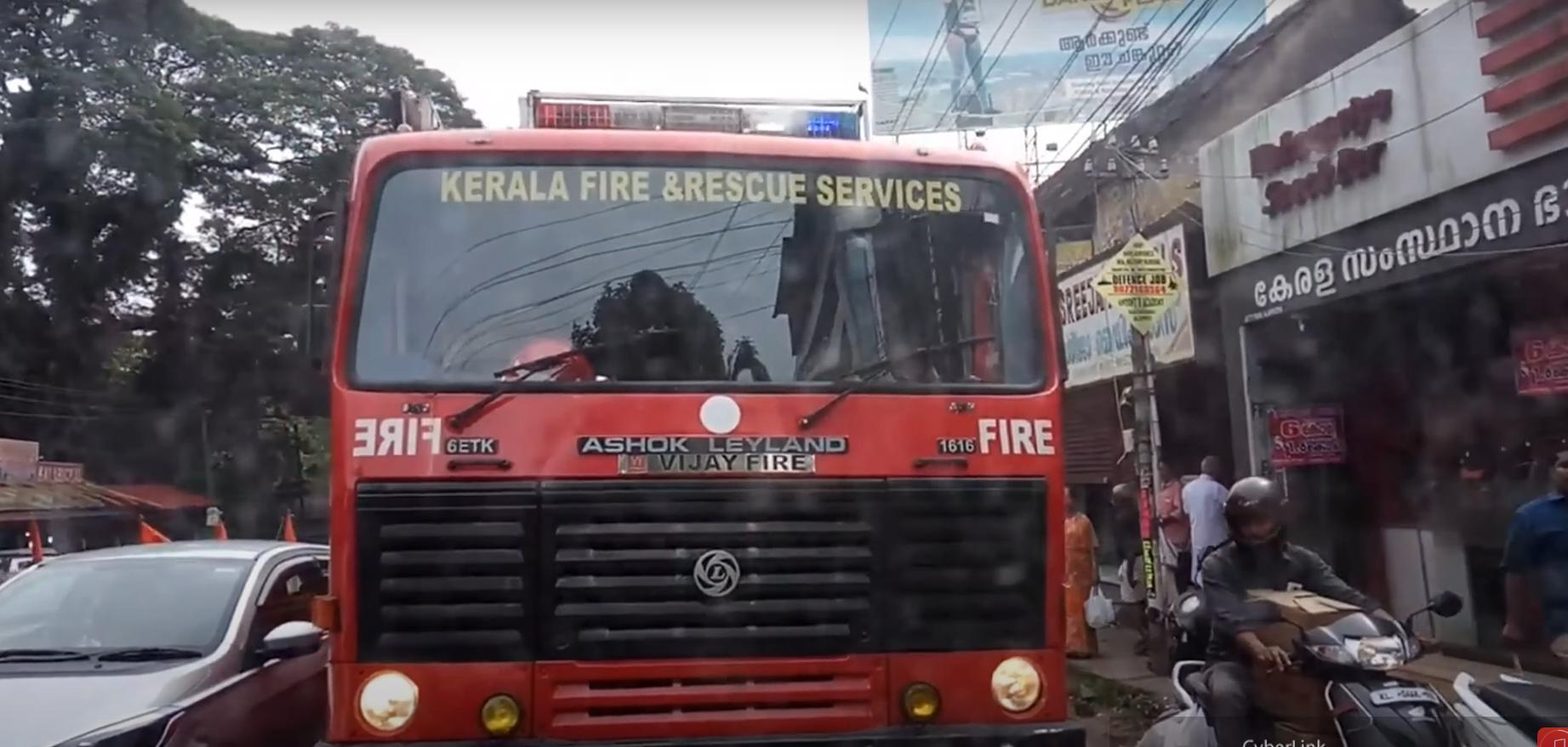Fire-engine: (322, 84, 1094, 747), (519, 93, 872, 139), (346, 402, 468, 468), (683, 160, 810, 216), (967, 415, 1066, 464), (577, 169, 660, 209)
